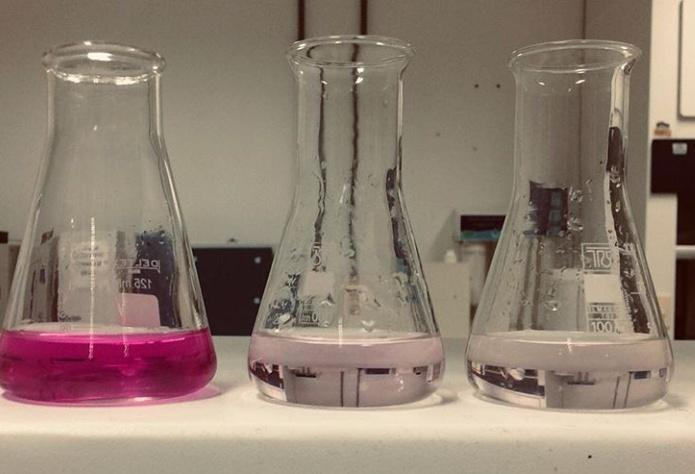Titrarion: (241, 30, 451, 406), (462, 41, 678, 402), (6, 40, 219, 401)
